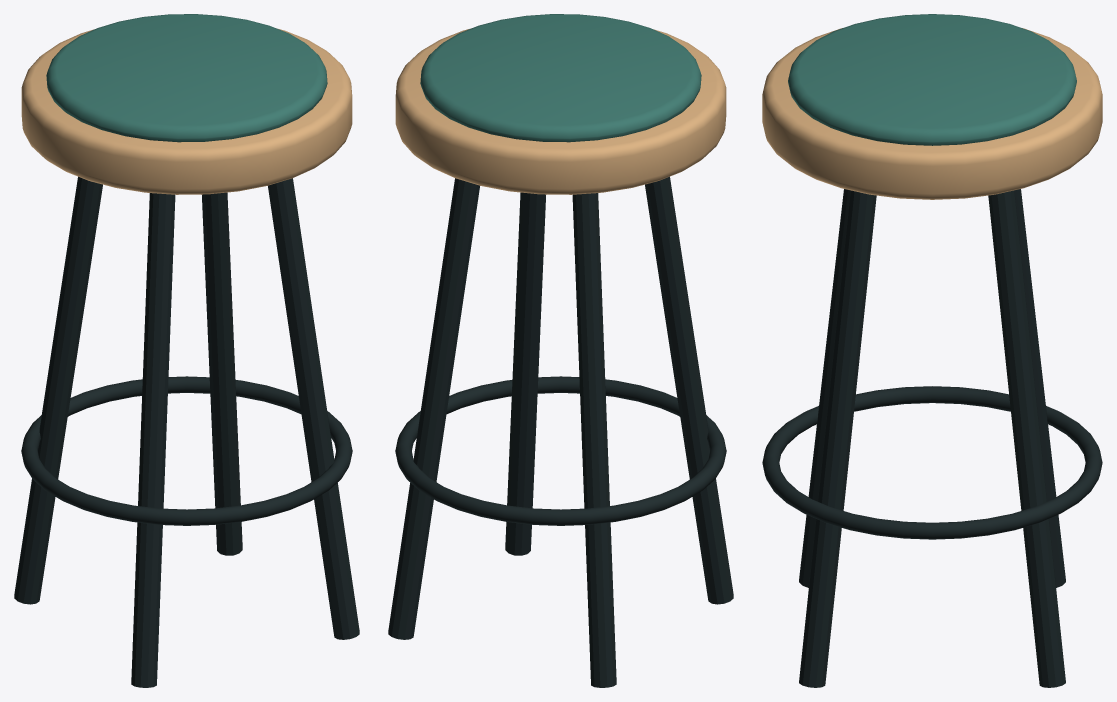
Rendered from stool.glb.
The picture shows the model from 3 angles, left to right: view 1: azimuth 30°, elevation 25°; view 2: azimuth 150°, elevation 25°; view 3: azimuth 270°, elevation 25°; orthographic projection. The views are drawn at different scales.
Visible parts, largest first — view 1: Seat pad, Stool seat, Splayed leg.003, Splayed leg, Splayed leg.002, Footrest ring, Splayed leg.001; view 2: Seat pad, Stool seat, Splayed leg.002, Splayed leg.001, Splayed leg.003, Footrest ring, Splayed leg; view 3: Seat pad, Stool seat, Splayed leg, Splayed leg.001, Footrest ring, Splayed leg.002, Splayed leg.003.
Boxes of the visible parts, x1,y1,x2,y2 form: Seat pad: (46,14,327,142); Stool seat: (21,29,352,194); Splayed leg.003: (131,193,175,687); Splayed leg: (268,178,359,639); Splayed leg.002: (14,176,102,604); Footrest ring: (21,376,352,525); Splayed leg.001: (202,192,242,555); Seat pad: (420,14,701,142); Stool seat: (395,29,726,194); Splayed leg.002: (572,193,616,687); Splayed leg.001: (388,178,479,639); Splayed leg.003: (645,176,733,604); Footrest ring: (395,376,726,525); Splayed leg: (505,192,545,555); Seat pad: (788,14,1076,145); Stool seat: (762,28,1102,199); Splayed leg: (799,190,876,687); Splayed leg.001: (988,190,1065,687); Footrest ring: (762,386,1102,539); Splayed leg.002: (1014,189,1065,587); Splayed leg.003: (799,189,850,587).
Size of the model in its own units: 0.4 by 0.7297 by 0.4.
